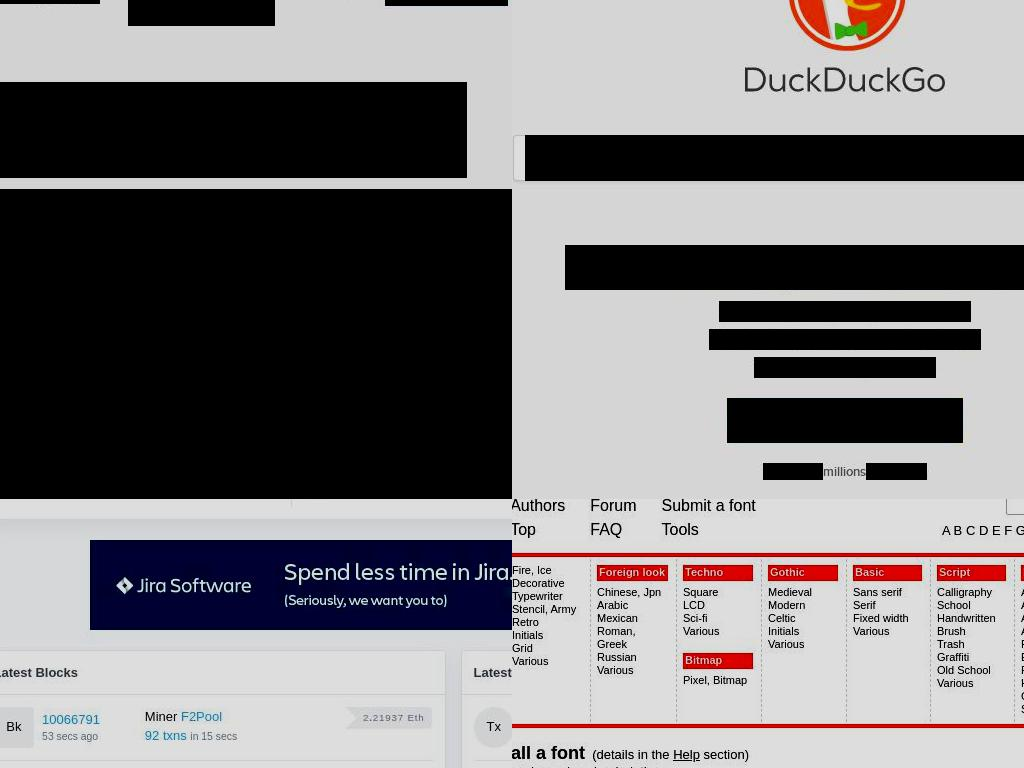button: (727, 398, 963, 443), (0, 226, 153, 269), (128, 0, 275, 26), (597, 625, 668, 651), (597, 586, 668, 599), (597, 599, 668, 612), (597, 612, 668, 625), (597, 651, 668, 664), (597, 664, 668, 677), (512, 564, 582, 577), (512, 577, 582, 590), (512, 590, 582, 603), (512, 603, 582, 616), (512, 616, 582, 629), (512, 629, 582, 642), (512, 642, 582, 655), (512, 655, 582, 668), (683, 586, 753, 599), (683, 599, 753, 612), (683, 612, 753, 625), (683, 625, 753, 638), (683, 674, 753, 687), (768, 586, 838, 599), (768, 599, 838, 612), (768, 612, 838, 625), (768, 625, 838, 638), (768, 638, 838, 651), (853, 586, 922, 599), (853, 599, 922, 612), (853, 612, 922, 625), (853, 625, 922, 638), (937, 586, 1006, 599), (937, 599, 1006, 612), (937, 612, 1006, 625), (937, 625, 1006, 638), (937, 638, 1006, 651), (937, 651, 1006, 664), (937, 664, 1006, 677), (937, 677, 1006, 690), (599, 566, 666, 579), (180, 707, 223, 727), (685, 566, 751, 579), (685, 654, 751, 667), (770, 566, 836, 579), (855, 566, 920, 579), (939, 566, 1004, 579)
field: (525, 135, 1024, 181)
heading: (0, 82, 467, 178), (565, 245, 1024, 290), (0, 663, 79, 683), (473, 663, 512, 683)
iframe: (76, 540, 512, 631)
image: (0, 189, 512, 499)
link: (512, 743, 585, 763), (661, 499, 756, 514), (42, 712, 101, 728), (512, 499, 566, 514), (144, 728, 190, 744), (590, 499, 638, 514), (661, 521, 699, 538), (590, 521, 623, 538), (512, 521, 537, 538), (673, 747, 701, 762), (962, 523, 976, 538), (975, 523, 989, 538), (988, 523, 1002, 538), (950, 523, 962, 538), (1000, 523, 1012, 538), (1012, 523, 1024, 538), (942, 523, 951, 538)
text: (727, 398, 963, 443), (709, 329, 981, 350), (719, 301, 971, 322), (754, 357, 936, 378), (0, 238, 113, 258), (473, 707, 512, 748), (0, 707, 35, 748), (585, 747, 673, 762), (42, 729, 110, 745), (866, 463, 927, 480), (763, 463, 823, 480), (699, 747, 749, 762), (823, 463, 866, 480), (372, 712, 425, 724), (144, 709, 181, 725), (190, 731, 238, 743), (363, 712, 371, 724), (369, 712, 373, 724)
